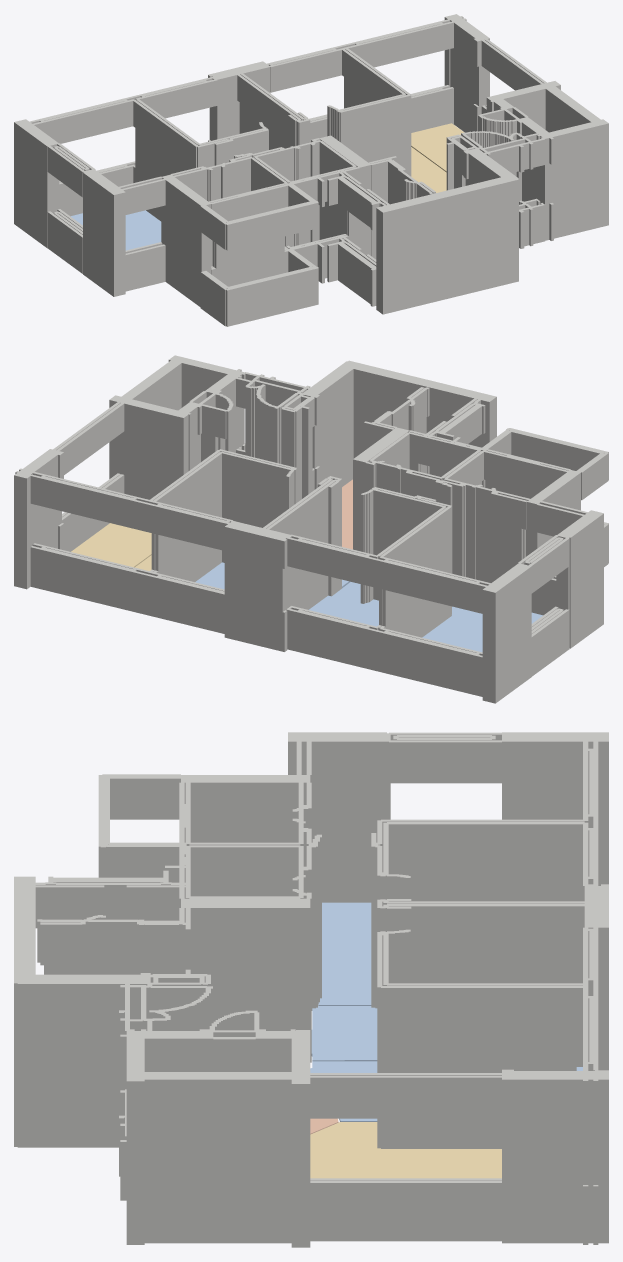
The picture shows the model from 3 angles, top to bottom: view 1: azimuth 30°, elevation 25°; view 2: azimuth 150°, elevation 25°; view 3: azimuth 270°, elevation 25°; orthographic projection. The views are drawn at different scales.
Visible parts, largest first — view 1: walls, room:living:4, room:bedroom:0, room:living:3; view 2: walls, room:living:4, room:bedroom:0, room:bedroom:2, room:kitchen:10, room:bedroom:1; view 3: walls, room:living:3, room:bedroom:0, room:bedroom:2, room:bedroom:1.
Boxes of the visible parts, x1,y1,x2,y2 form: walls: (14, 14, 608, 326); room:living:4: (411, 123, 464, 172); room:bedroom:0: (71, 210, 161, 250); room:living:3: (411, 147, 446, 192); walls: (14, 355, 608, 703); room:living:4: (71, 523, 151, 567); room:bedroom:0: (422, 606, 542, 652); room:bedroom:2: (309, 582, 378, 626); room:kitchen:10: (342, 479, 352, 549); room:bedroom:1: (195, 562, 350, 589); walls: (14, 732, 608, 1247); room:living:3: (310, 1122, 501, 1178); room:bedroom:0: (318, 902, 371, 1005); room:bedroom:2: (311, 1006, 377, 1061); room:bedroom:1: (310, 1061, 582, 1121).
Bounding box in the file's own units: 12.89 × 2.8 × 9.22.
